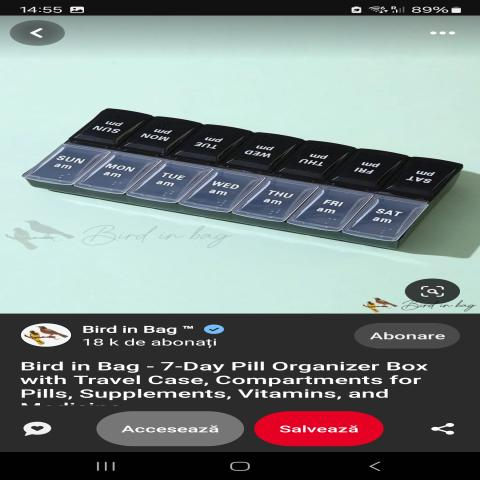Pill-box: (7, 66, 472, 256)
